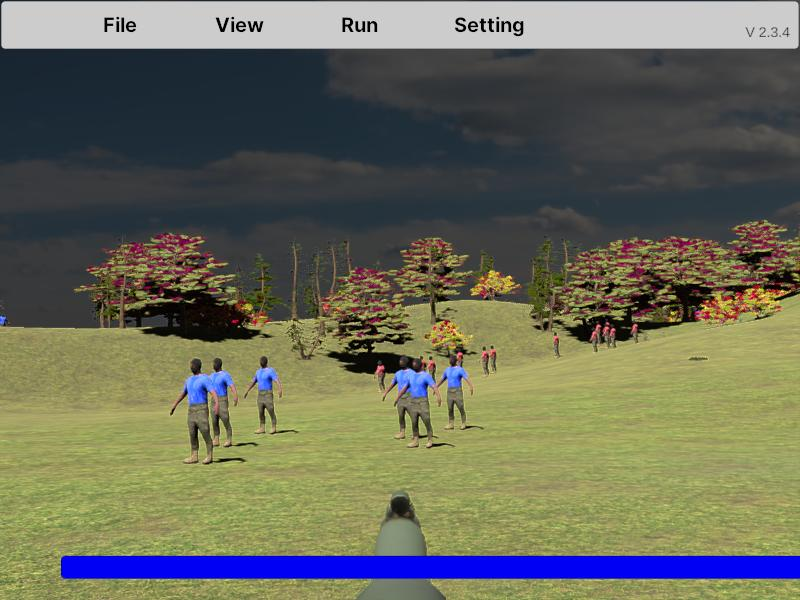Human: (170, 358, 219, 466), (393, 358, 442, 448), (382, 356, 422, 440), (203, 356, 238, 448), (245, 355, 283, 435), (435, 354, 474, 431)
